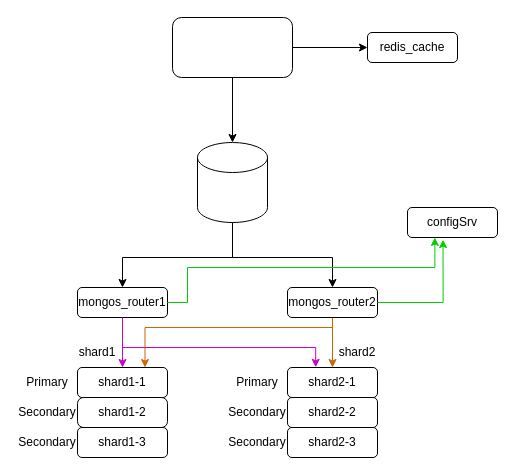
The diagram is 515 pixels wide and 475 high, and some of its shapes have lost their labels. The centre of each missing label's shape, as x and y in pixels:
"MongoDB Driver" goes at point 232,182.
"pymongo-api" goes at point 232,47.
